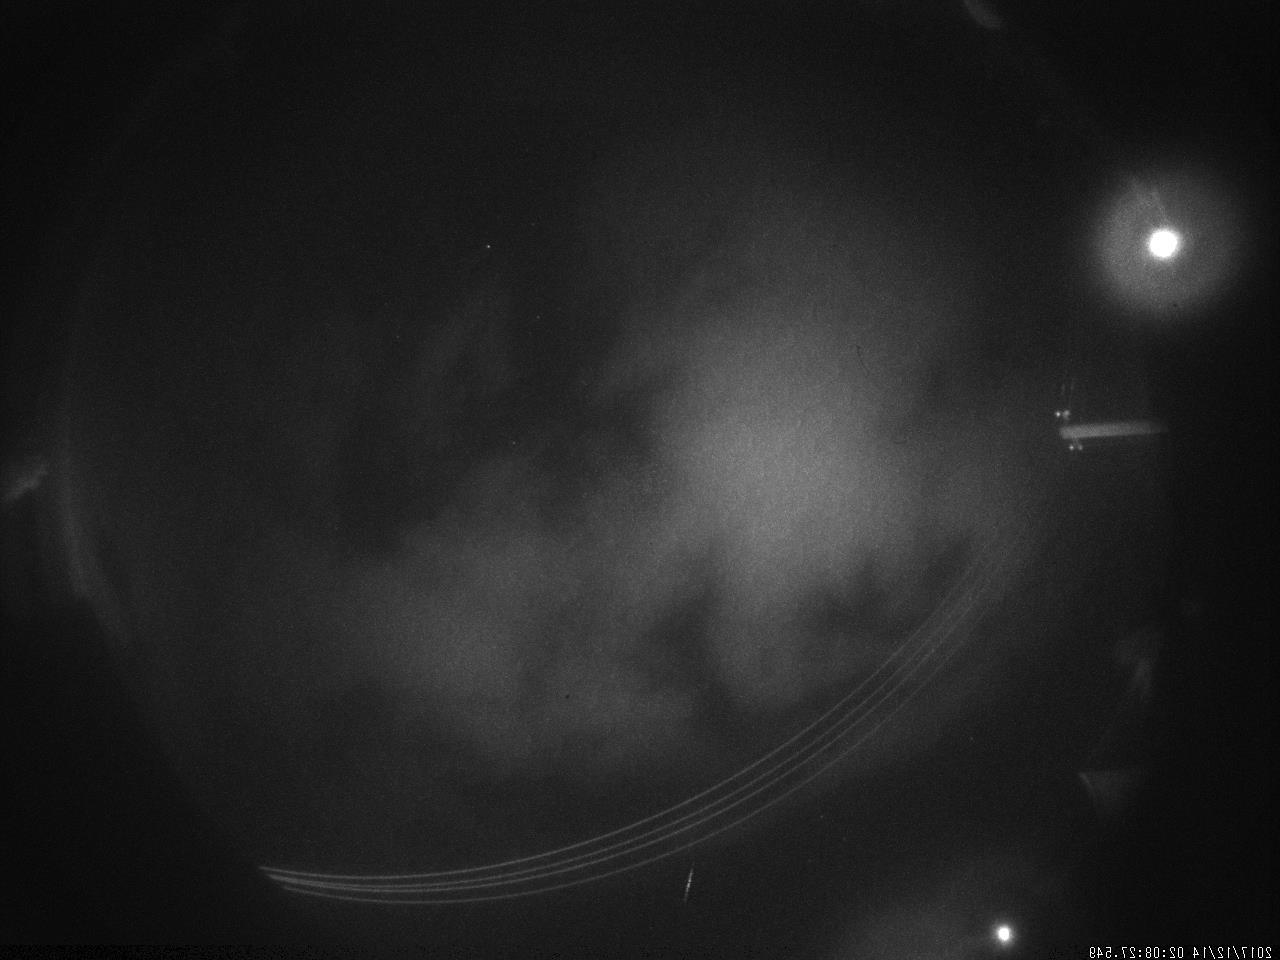meteor: (677, 859, 705, 899)
